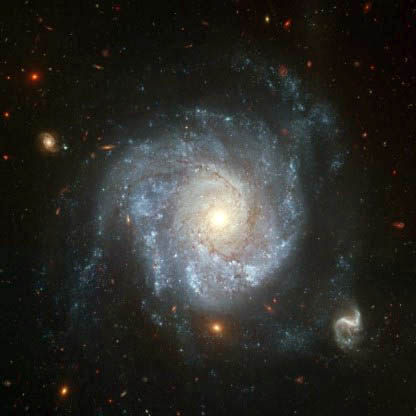NGC 1309: (31, 69, 381, 371)
